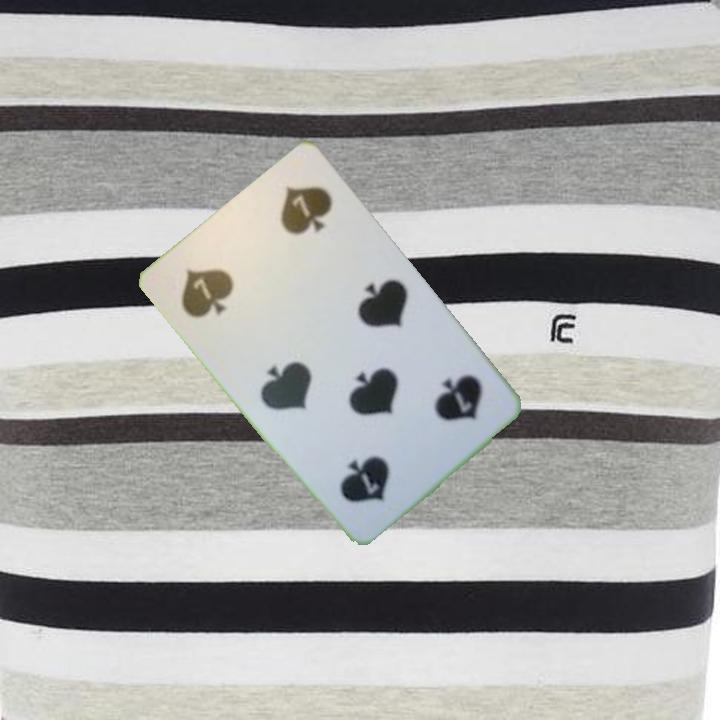s_7.png: (156, 219, 286, 347), (378, 343, 507, 471)
